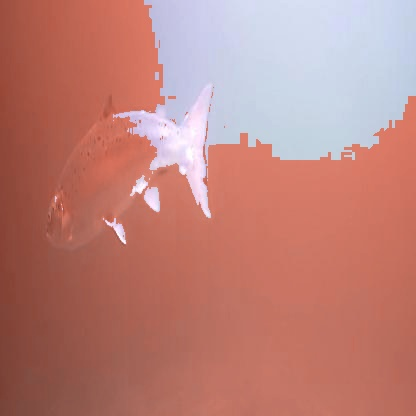salmon: (43, 73, 215, 258)
